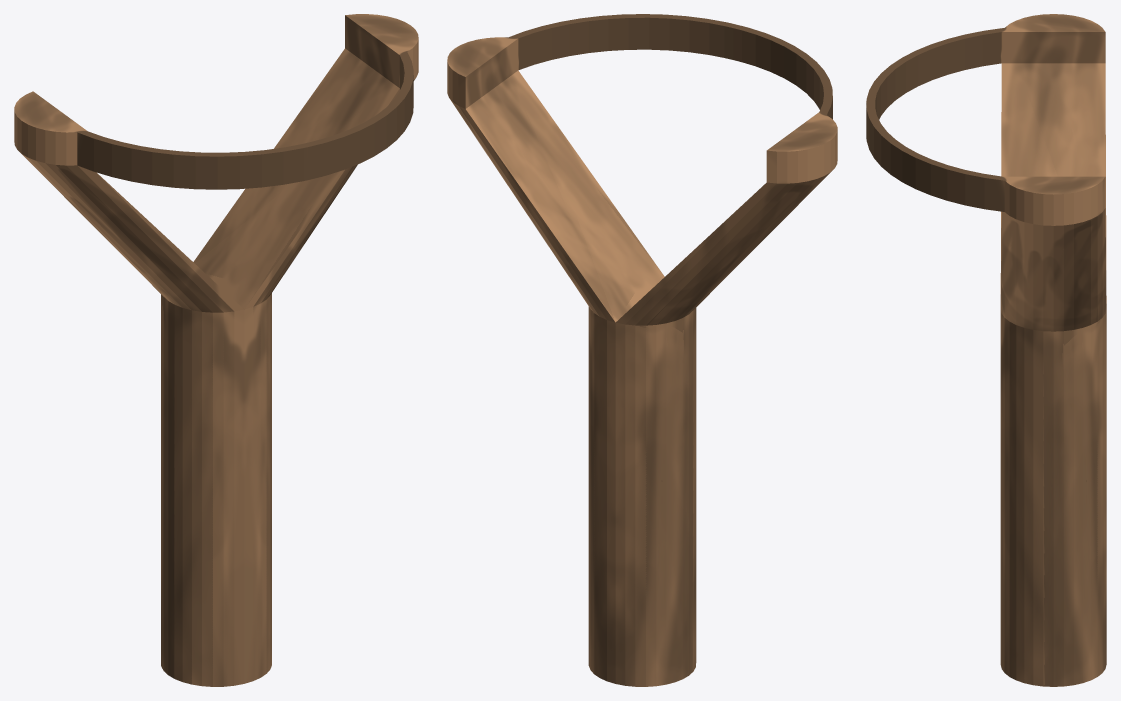
The model's file is Slingshot.obj.
3 renders of one model, left to right at view 1: azimuth 30°, elevation 25°; view 2: azimuth 150°, elevation 25°; view 3: azimuth 270°, elevation 25°, orthographic. The views are drawn at different scales.
Parts seen in each view (by area): view 1: Cylinder; view 2: Cylinder; view 3: Cylinder.
Boxes of the visible parts, left/top/right/bottom form: Cylinder: left=14, top=14, right=418, bottom=686; Cylinder: left=447, top=14, right=837, bottom=686; Cylinder: left=866, top=14, right=1106, bottom=686.
Bounding box in the file's own units: 8.07 × 11.68 × 4.54.
Materials: 1 (1 with a texture image).
